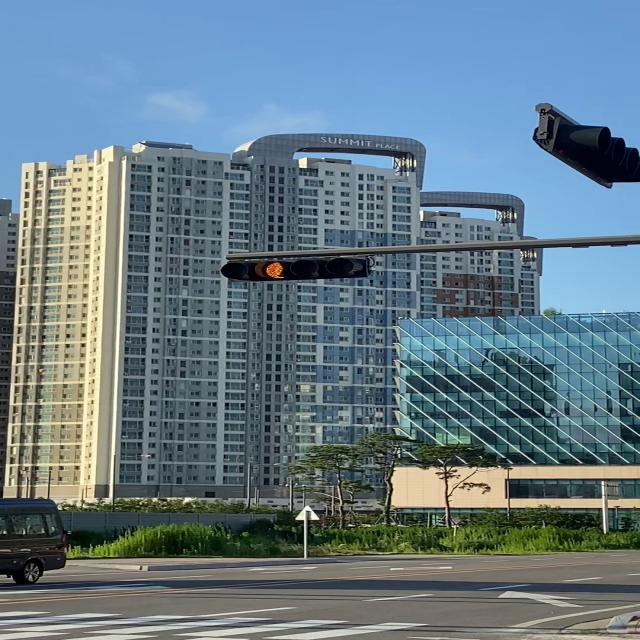yellow_light: (219, 255, 371, 283)
